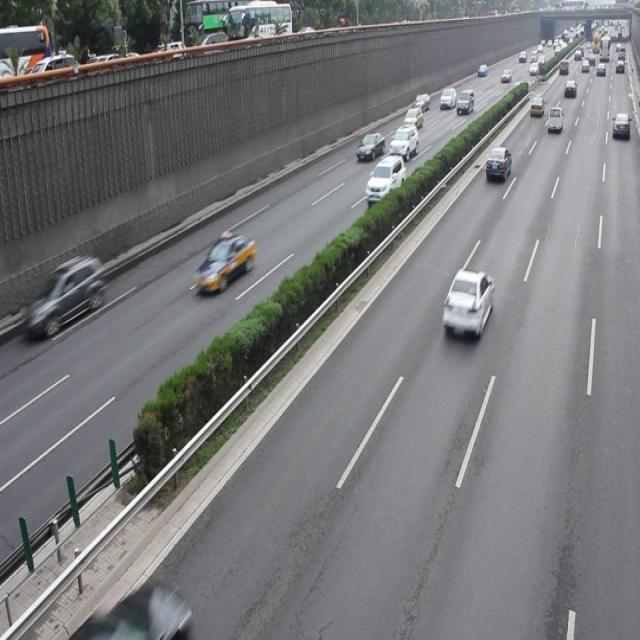car: (90, 579, 195, 640), (30, 253, 106, 337), (193, 231, 256, 295), (440, 267, 494, 339), (364, 154, 406, 206), (485, 144, 510, 183), (355, 129, 385, 161)
